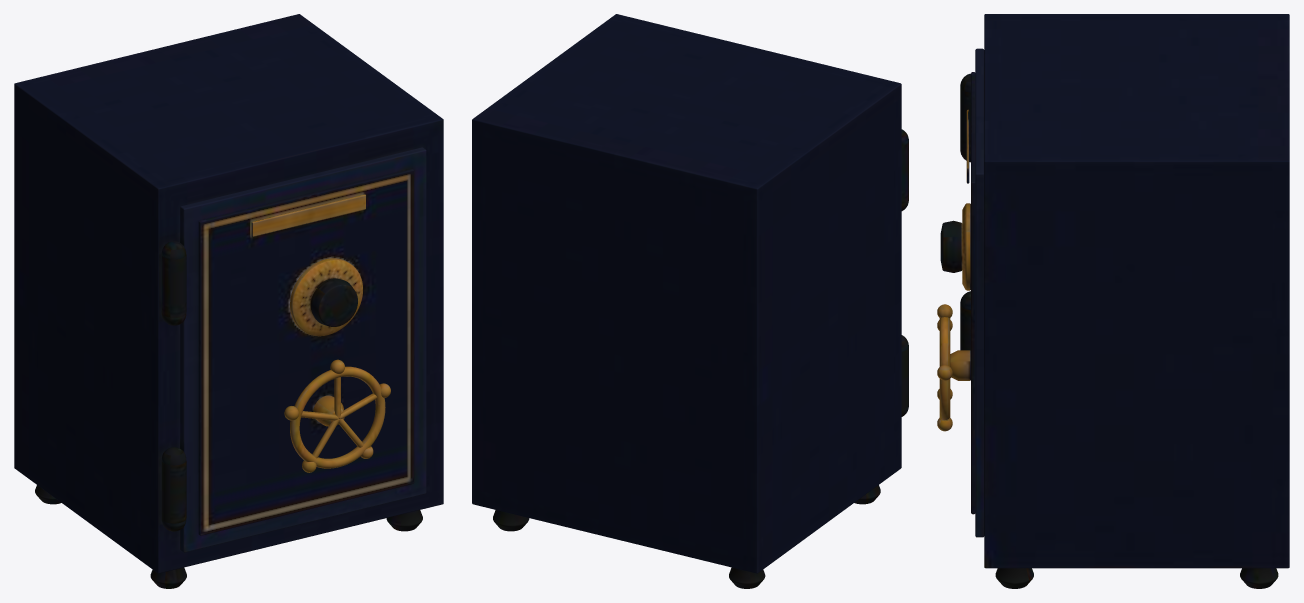
The model's file is safe.glb.
The picture shows the model from 3 angles, left to right: view 1: azimuth 30°, elevation 25°; view 2: azimuth 150°, elevation 25°; view 3: azimuth 270°, elevation 25°; orthographic projection. The views are drawn at different scales.
Visible parts, largest first — view 1: safe; view 2: safe; view 3: safe.
Boxes of the visible parts, x1,y1,x2,y2 form: safe: [14, 14, 443, 588]; safe: [472, 14, 908, 588]; safe: [937, 14, 1289, 588].
Bounding box in the file's own units: 0.8 × 1.1 × 0.8078.
Materials: 1 (1 with a texture image).
